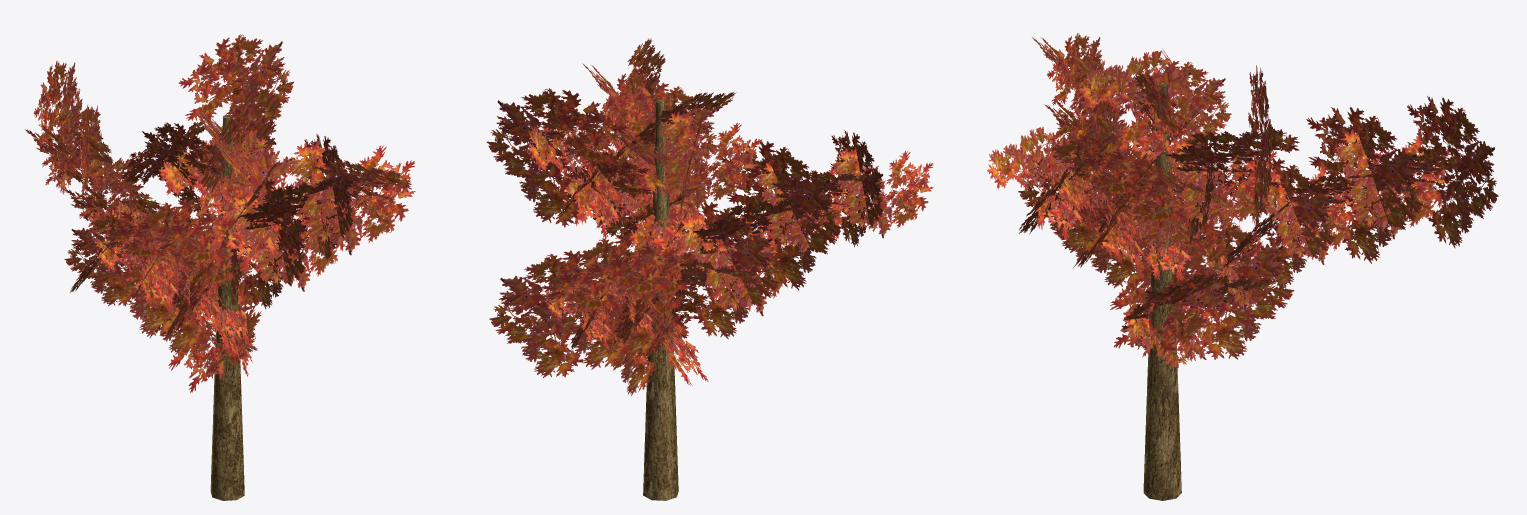
Rendered from Tree07.FBX.
3 renders of one model, left to right at view 1: azimuth 30°, elevation 25°; view 2: azimuth 150°, elevation 25°; view 3: azimuth 270°, elevation 25°, orthographic. The views are drawn at different scales.
Parts seen in each view (by area): view 1: Plane29, Plane18, Cylinder01, Plane36, Plane21, Plane41, Plane26, Plane01, Plane20, Plane25, Plane15, Plane39 (+19 smaller); view 2: Plane36, Plane12, Cylinder01, Plane18, Plane09, Plane40, Plane15, Plane22, Plane16, Plane35, Plane32, Plane43 (+19 smaller); view 3: Plane09, Cylinder01, Plane12, Plane03, Plane42, Plane28, Plane30, Plane25, Plane23, Plane10, Plane34, Plane06 (+23 smaller).
Boxes of the visible parts, x1,y1,x2,y2 form: Plane29: [286, 140, 415, 255]; Plane18: [106, 199, 237, 336]; Cylinder01: [210, 114, 244, 500]; Plane36: [178, 34, 294, 155]; Plane21: [64, 211, 170, 306]; Plane41: [158, 130, 297, 273]; Plane26: [228, 181, 345, 291]; Plane01: [168, 255, 261, 392]; Plane20: [94, 207, 179, 314]; Plane25: [245, 179, 306, 309]; Plane15: [140, 231, 241, 354]; Plane39: [142, 122, 217, 212]; Plane36: [486, 88, 628, 227]; Plane12: [489, 250, 628, 377]; Cylinder01: [643, 99, 678, 500]; Plane18: [721, 141, 841, 290]; Plane09: [544, 233, 679, 369]; Plane40: [660, 111, 762, 209]; Plane15: [673, 202, 779, 339]; Plane22: [831, 147, 933, 238]; Plane16: [678, 205, 792, 316]; Plane35: [528, 108, 623, 239]; Plane32: [563, 134, 702, 277]; Plane43: [614, 82, 716, 195]; Plane09: [1306, 107, 1423, 263]; Cylinder01: [1143, 82, 1181, 500]; Plane12: [1407, 96, 1498, 248]; Plane03: [1176, 219, 1294, 359]; Plane42: [1078, 50, 1192, 171]; Plane28: [1018, 136, 1148, 252]; Plane30: [987, 126, 1088, 240]; Plane25: [1059, 165, 1187, 288]; Plane23: [1110, 229, 1227, 357]; Plane10: [1335, 129, 1450, 239]; Plane34: [1167, 137, 1277, 233]; Plane06: [1231, 158, 1335, 285].
Size of what is drawn, in the model's own units: 360 by 393 by 413.
2 materials, 2 textured.
